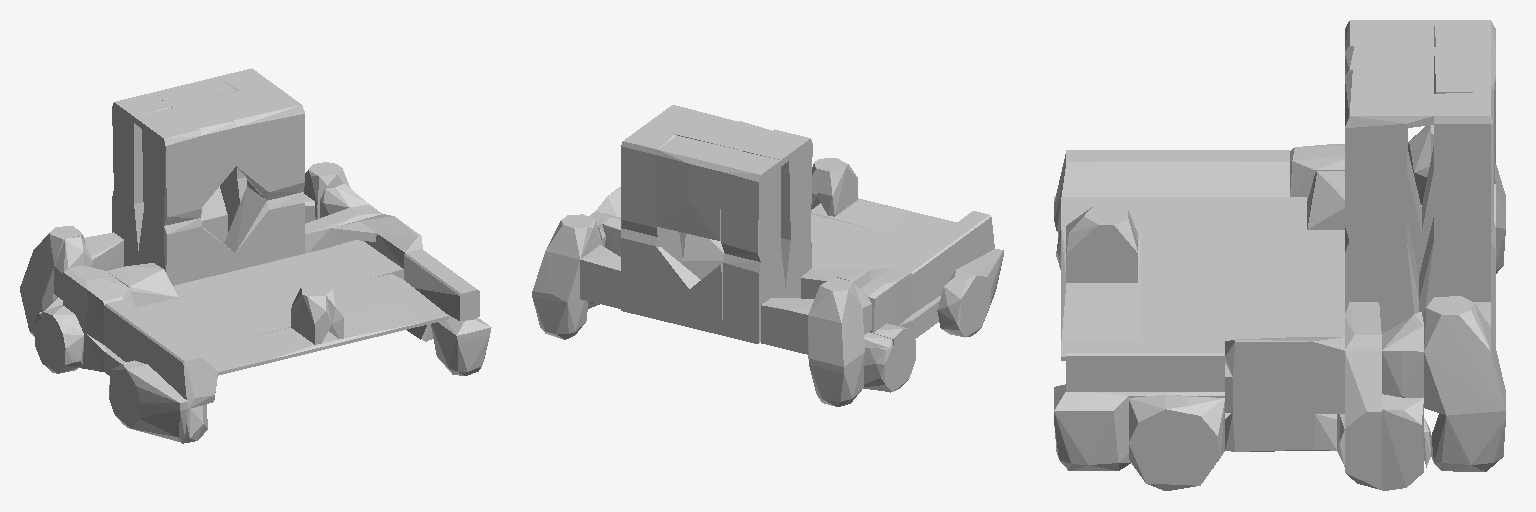
robot.urdf — vention_base:
<?xml version="1.0" ?>
<robot name="vention_base">
  <link name="vention_base">
    <inertial>
      <origin rpy="0 0 0" xyz="0 0 0"/>
      <mass value="1.0"/>
      <inertia ixx="1.821E-05" ixy="-4.1084E-09" ixz="-1.448E-07" iyy="1.062E-05" iyz="-1.5136E-09" izz="1.0557E-05"/>
    </inertial>
    <visual>
      <origin rpy="0 0 0" xyz="0 0 0"/>
      <geometry>
        <mesh filename="vention_base_simplified.obj"/>
      </geometry>
      <material name="aluminium">
        <color rgba="0.827450980392156 0.827450980392156 0.827450980392156 1.0"/>
      </material>
    </visual>
    <collision>
      <origin rpy="0 0 0" xyz="0 0 0"/>
      <geometry>
        <mesh filename="vention_base_simplified.obj"/>
      </geometry>
    </collision>
  </link>
</robot>

--- What the picture shows (computed from the rendered views, not written in the file) ---
Views: 3 orthographic renders of the robot side by side, from view 1: azimuth 30°, elevation 25°; view 2: azimuth 150°, elevation 25°; view 3: azimuth 270°, elevation 25°.
Model vention_base with 1 links and 0 joints (none), rooted at vention_base, posed every joint at zero.
Links seen in each view (by area): view 1: vention_base; view 2: vention_base; view 3: vention_base.
Link boxes in pixels (x1,y1,x2,y2): vention_base: [20, 68, 491, 443]; vention_base: [532, 105, 1003, 406]; vention_base: [1054, 20, 1505, 490].
Size in the robot's own frame: 0.883 by 0.7206 by 0.5424 metres.
1 mesh visuals loaded from 1 distinct referenced files (1 OBJ).
